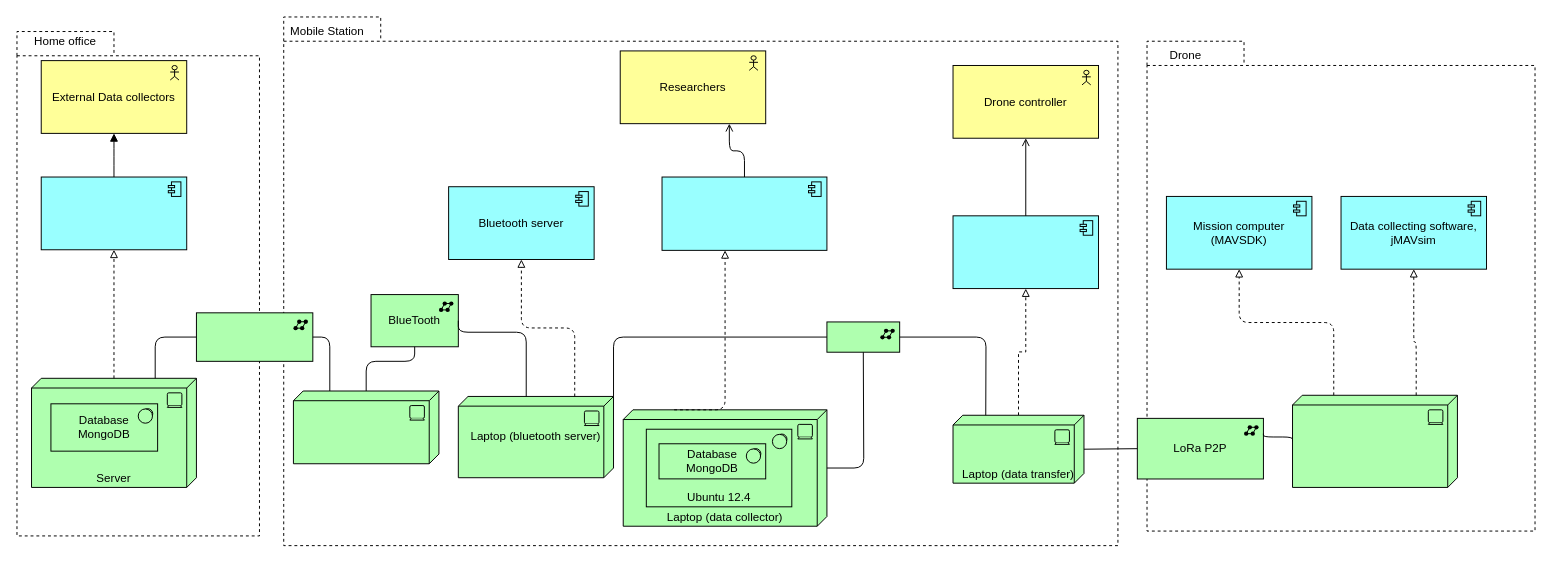
Image size: 1552x563. Some labels were removed from this diagram. Here are the shapes that lost their labels. From the top down, the centre of each, then its label:
At (113,213): "RESTful API Swagger".
At (744,213): "Mobile Station server".
At (1025,252): "Drone Comm Server".
At (254,336): "LoRaWAN".
At (863,336): "UDP".
At (365,427): "Arduino/shield LoraWan/BT".
At (1374,440): "Drone (Linux)".
